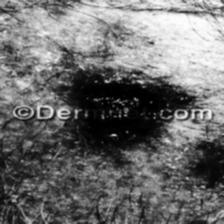Potentially Malignant Skin Tumors: (56, 48, 190, 106), (79, 124, 172, 146)
